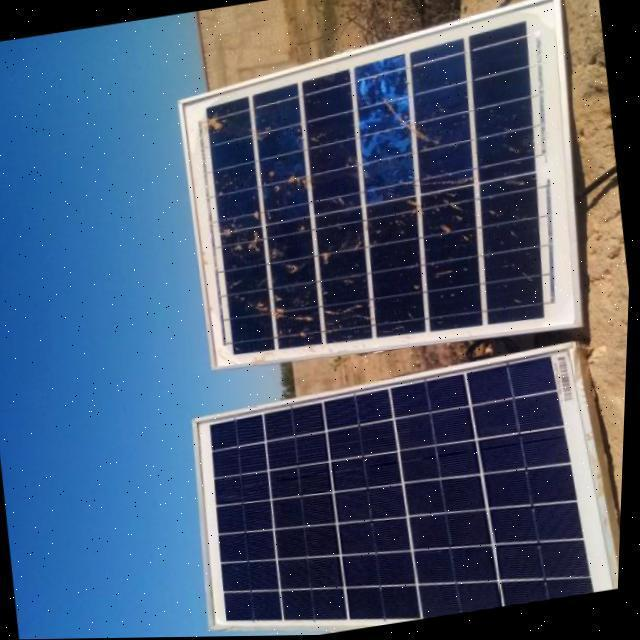Normal Solar Panel: (181, 338, 630, 638)
